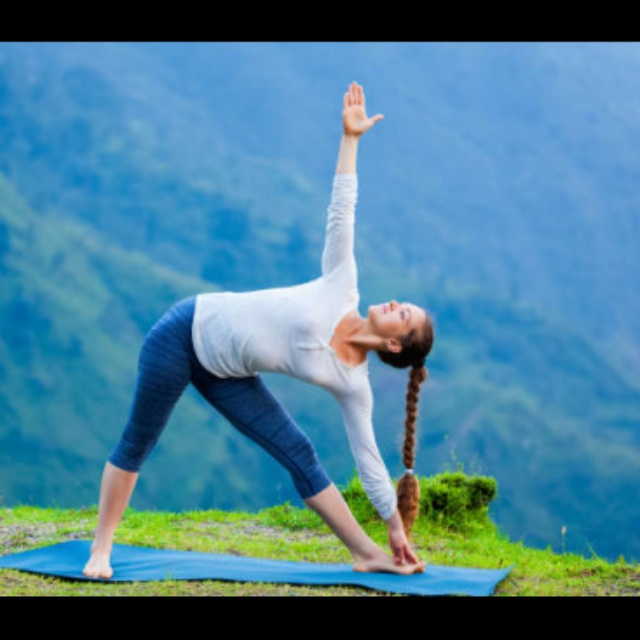Triangle_Pose: (70, 77, 439, 583)
